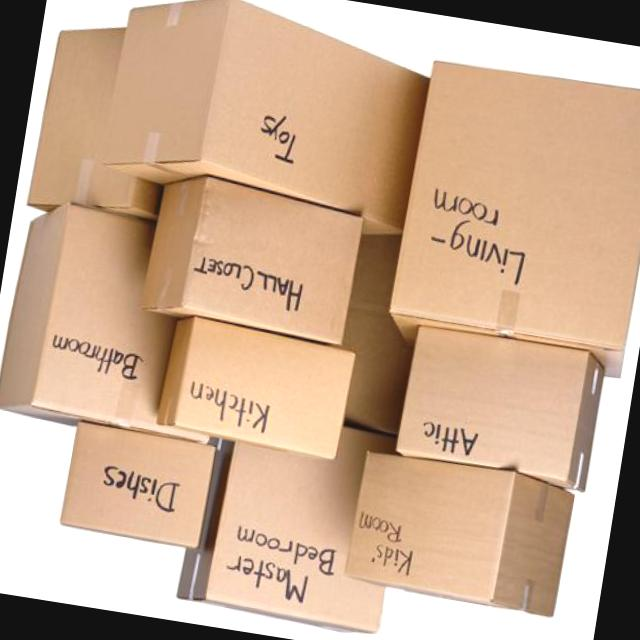Pathole: (387, 57, 640, 384), (100, 0, 441, 241), (172, 398, 417, 640), (0, 195, 202, 436), (342, 448, 580, 626), (137, 168, 366, 349), (387, 321, 615, 496), (28, 21, 185, 228), (155, 314, 360, 464), (54, 418, 227, 555)
